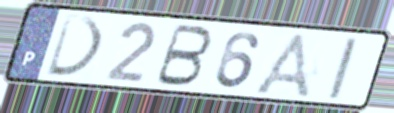2: (102, 20, 158, 84)
6: (214, 30, 261, 90)
A: (249, 30, 313, 101)
B: (151, 22, 215, 89)
D: (43, 12, 107, 80)
I: (325, 35, 361, 102)
